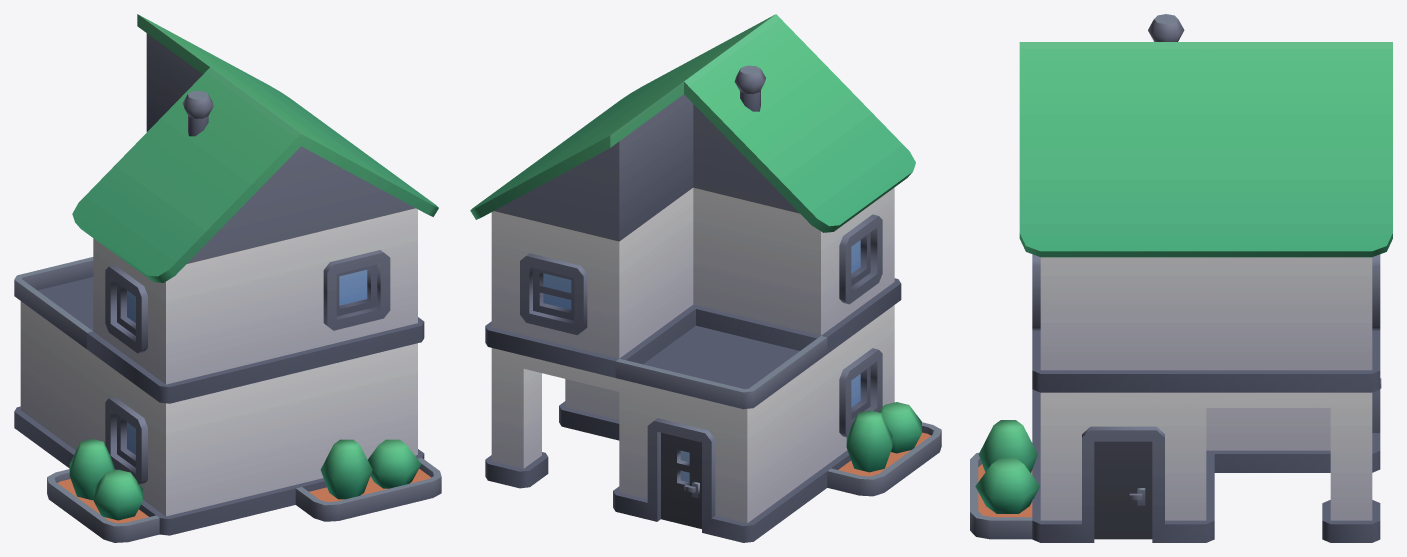
Rendered from building-type-r.glb.
3 renders of one model, left to right at view 1: azimuth 30°, elevation 25°; view 2: azimuth 150°, elevation 25°; view 3: azimuth 270°, elevation 25°, orthographic. The views are drawn at different scales.
Parts seen in each view (by area): view 1: building-type-r; view 2: building-type-r; view 3: building-type-r.
Part boxes in pixels (bbox=[...]): building-type-r: bbox=[14, 14, 441, 542]; building-type-r: bbox=[470, 14, 941, 542]; building-type-r: bbox=[970, 14, 1392, 542].
Size of the model in its own units: 1.03 by 1.14 by 1.02.
1 material, 1 textured.
